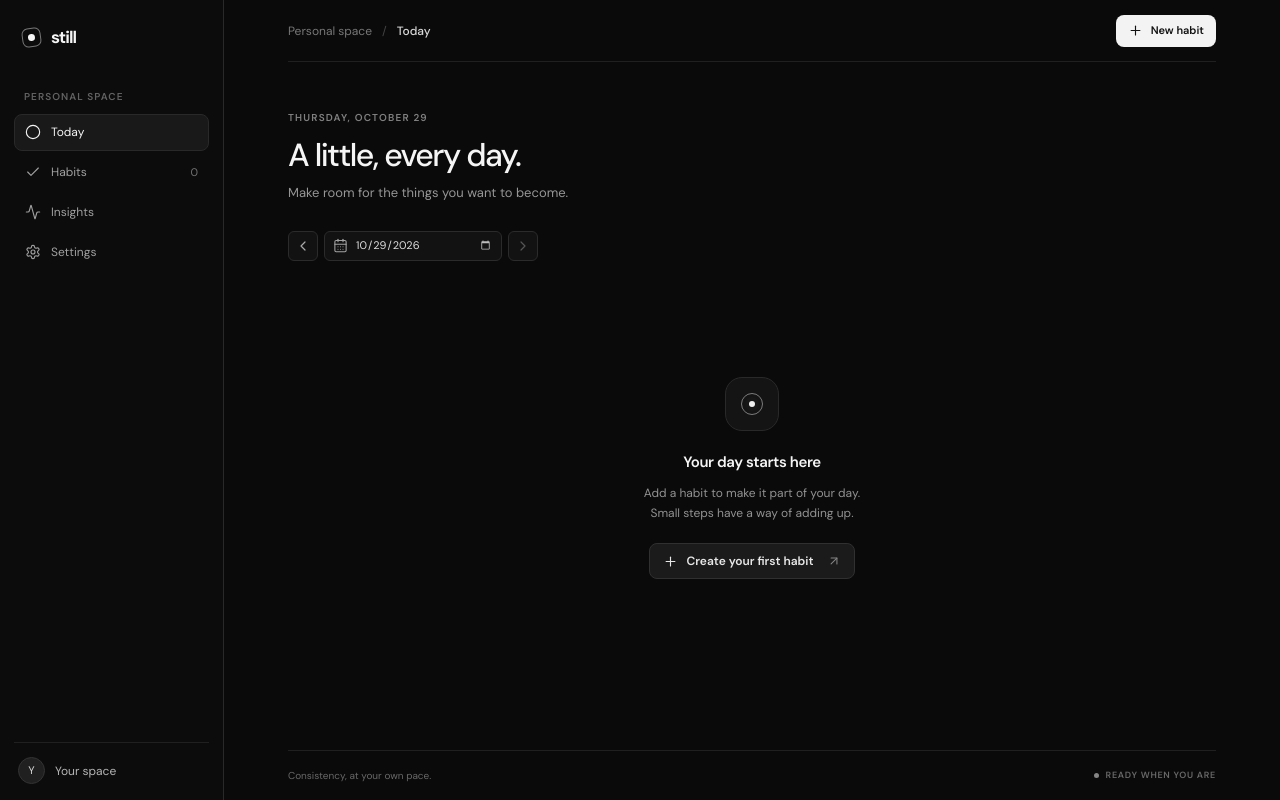
Test: habit management › closes the habit form with Escape for keyboard users
The width and height of the screenshot is (1280, 800).
Click the button "New habit". click: (1166, 30)
box: [1116,14,1216,46]
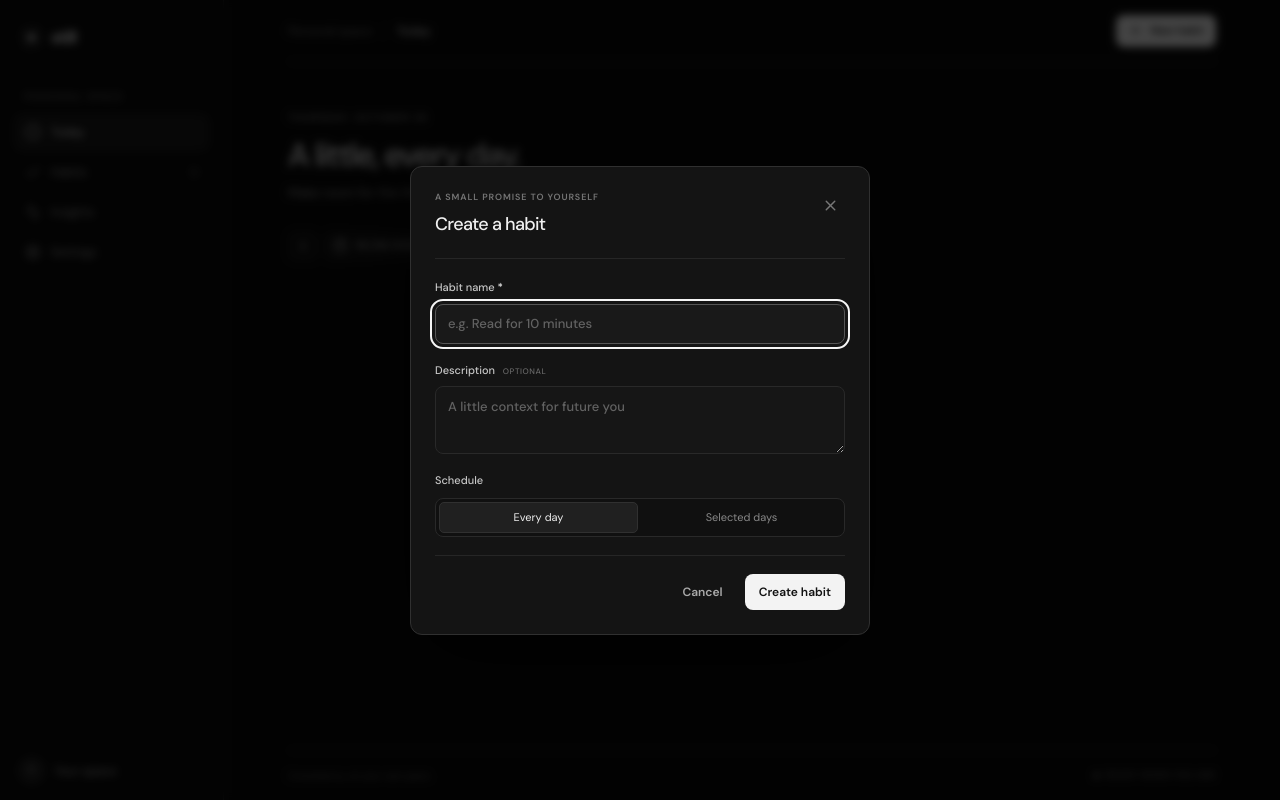
Expected: the dialog "Create a habit" is shown, [410,166,870,634]
Press Escape
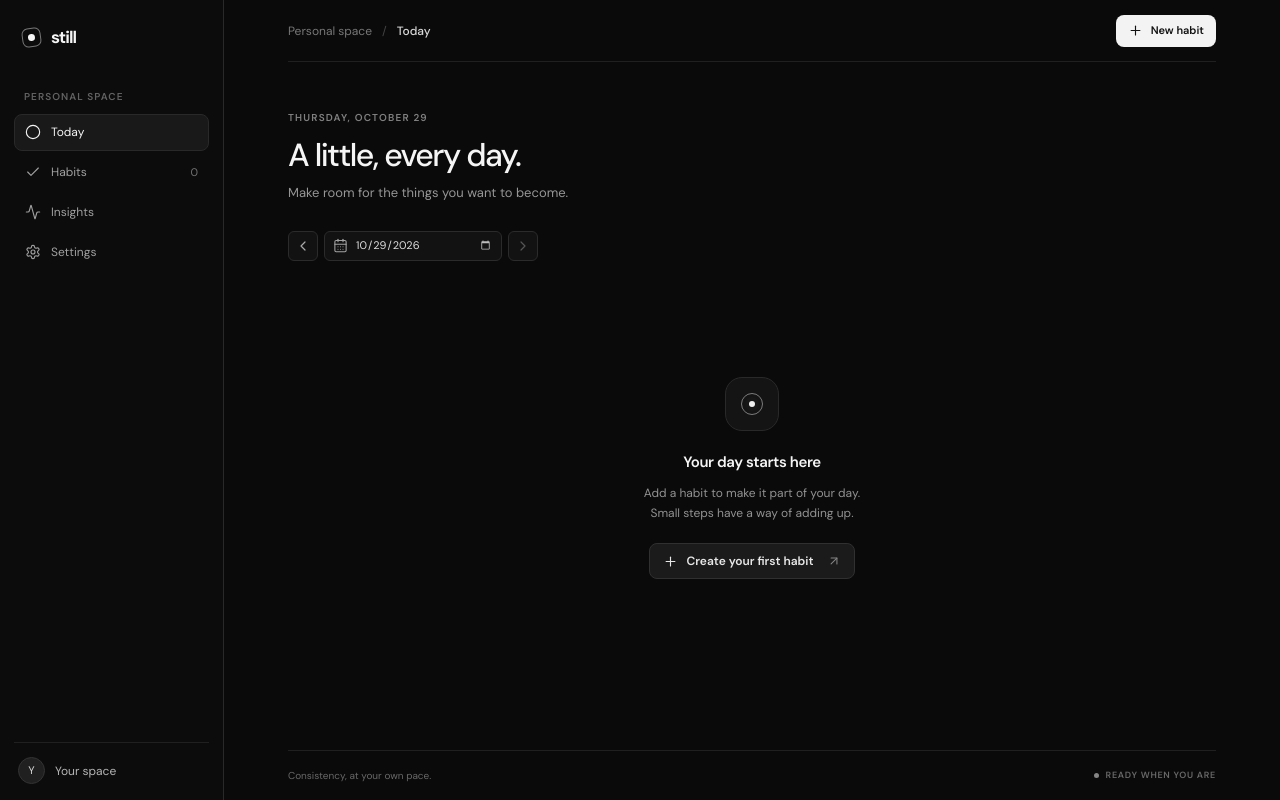
Expected: the heading "Create a habit" is gone
